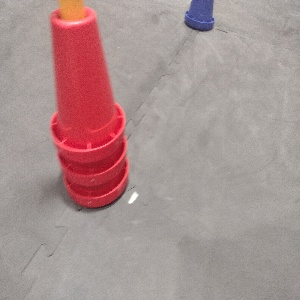Blue_1: (184, 0, 215, 33)
Red_3: (48, 5, 129, 209)
